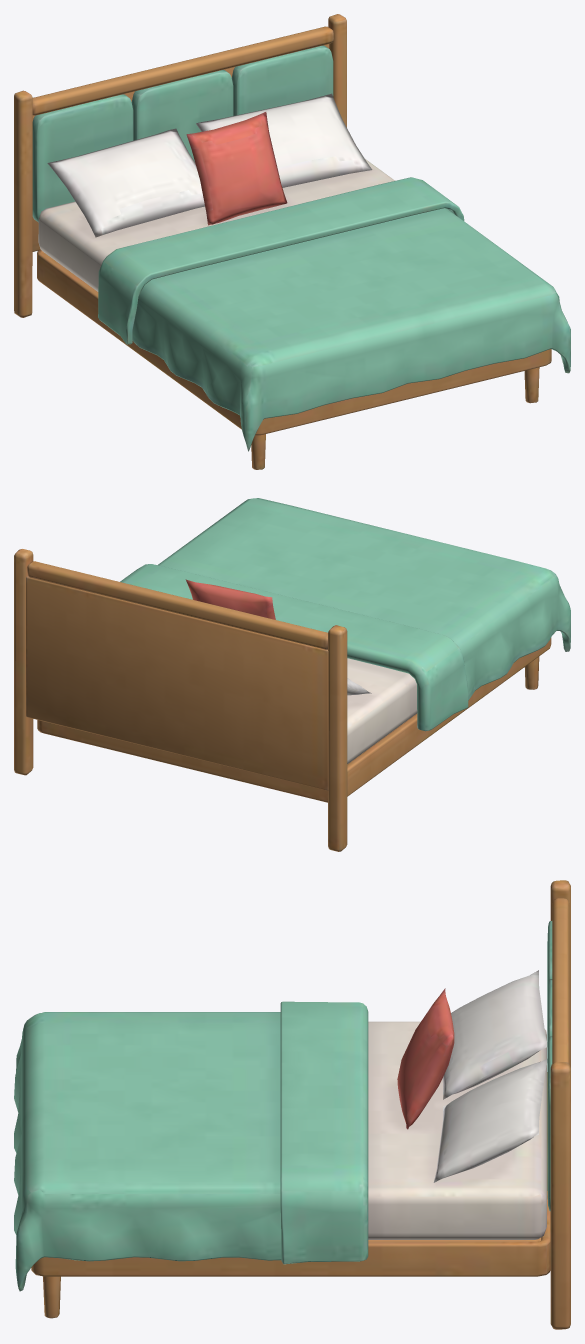
The model's file is bed.glb.
3 renders of one model, top to bottom at view 1: azimuth 30°, elevation 25°; view 2: azimuth 150°, elevation 25°; view 3: azimuth 270°, elevation 25°, orthographic. The views are drawn at different scales.
Parts seen in each view (by area): view 1: bed_body; view 2: bed_body; view 3: bed_body.
Part boxes in pixels (x1,y1,x2,y2): bed_body: (14, 14, 570, 469); bed_body: (14, 498, 570, 851); bed_body: (14, 880, 570, 1329).
Bounding box in the file's own units: 1.8 × 1.12 × 2.14.
1 material, 1 textured.
